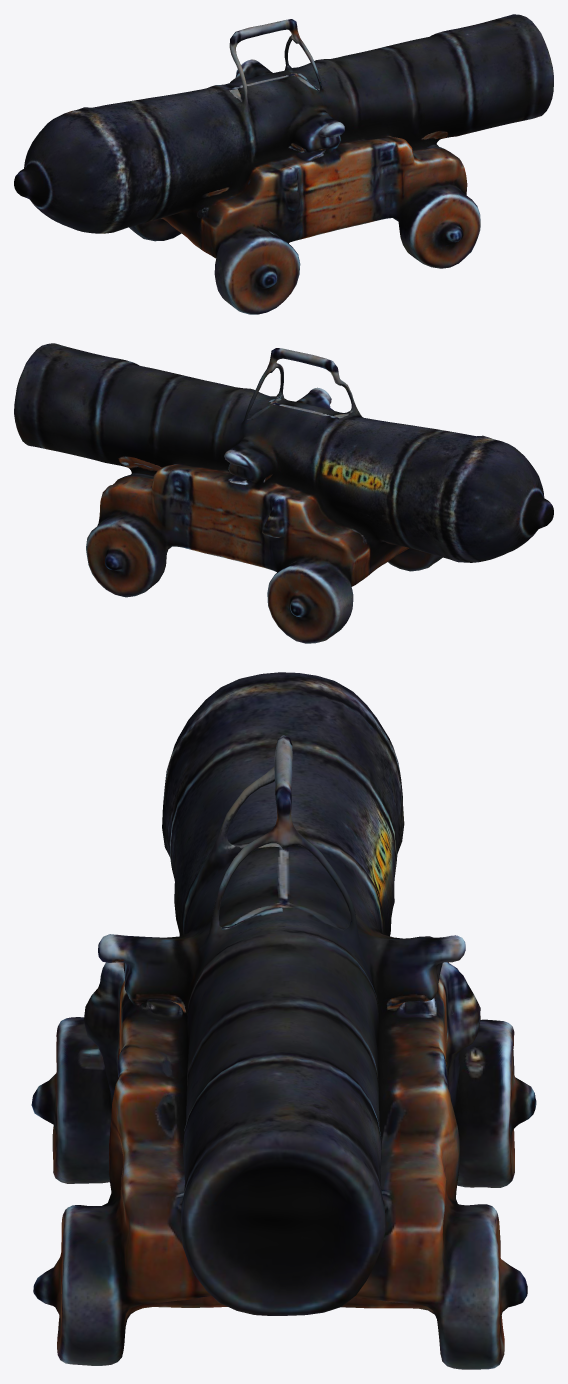
The model's file is bomb-cannon.glb.
The picture shows the model from 3 angles, top to bottom: view 1: azimuth 30°, elevation 25°; view 2: azimuth 150°, elevation 25°; view 3: azimuth 270°, elevation 25°; orthographic projection. The views are drawn at different scales.
Parts seen in each view (by area): view 1: mesh; view 2: mesh; view 3: mesh.
Boxes of the visible parts, bbox=[...] form: mesh: bbox=[14, 14, 553, 314]; mesh: bbox=[14, 343, 553, 643]; mesh: bbox=[31, 672, 536, 1369].
Size of the model in its own units: 0.9997 by 0.4399 by 0.425.
Materials: 1 (1 with a texture image).
